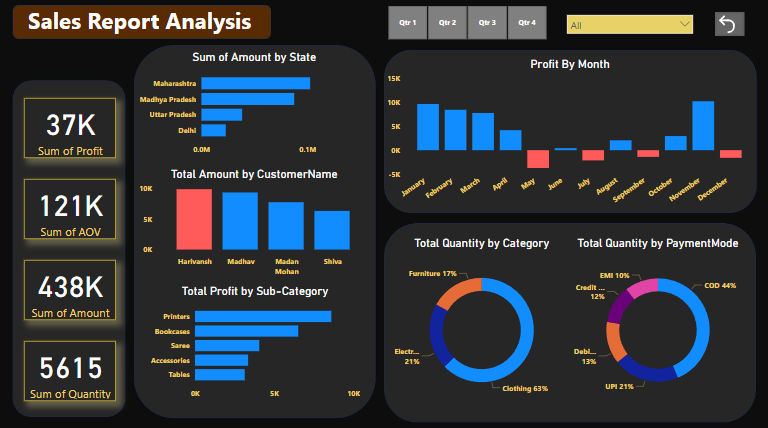

Layout of this report page (visuals, bound fields, positions):
{"tool":"powerbi","page":{"name":"Sales_Report","canvas":[1280,720],"ordinal":0},"visuals":[{"type":"textbox","box":[10,4.3,445.7,62.9],"z":0},{"type":"columnChart","title":"Profit By Month","fields":{"Category":["Orders.Order Date.Variation.Date Hierarchy.Month"],"Y":["Sum(Details.Profit)"]},"box":[640,96.9,620,263.1],"z":1000},{"type":"barChart","title":"Total Profit by Sub-Category","fields":{"Category":["Details.Sub-Category"],"Y":["Sum(Details.Profit)"]},"box":[244.3,474.3,360,200],"z":2000},{"type":"donutChart","title":"Total Quantity by Category","fields":{"Category":["Details.Category"],"Y":["Sum(Details.Quantity)"]},"box":[654.3,395.7,295.7,291.4],"z":3000},{"type":"donutChart","title":"Total Quantity by PaymentMode","fields":{"Y":["Sum(Details.Quantity)"],"Category":["Details.PaymentMode"]},"box":[951.4,395.7,290,291.4],"z":4000},{"type":"card","fields":{"Values":["Sum(Details.Amount)"]},"box":[40,434.3,152.9,100],"z":5000},{"type":"card","fields":{"Values":["Sum(Details.Quantity)"]},"box":[40,570,152.9,100],"z":6000},{"type":"card","fields":{"Values":["Sum(Details.Profit)"]},"box":[40,165.7,152.9,100],"z":7000},{"type":"card","fields":{"Values":["Sum(Details.AOV)"]},"box":[40,300,152.9,100],"z":8000},{"type":"barChart","fields":{"Category":["Orders.State"],"Y":["Sum(Details.Amount)"]},"box":[227.1,85.7,394.3,184.3],"z":9000},{"type":"columnChart","title":"Total Amount by CustomerName","fields":{"Category":["Orders.CustomerName"],"Y":["Sum(Details.Amount)"]},"box":[227.1,280,394.3,188.6],"z":10000},{"type":"slicer","fields":{"Values":["Orders.Order Date.Variation.Date Hierarchy.Quarter"]},"box":[621.4,4.3,312.9,68.6],"z":11000},{"type":"slicer","fields":{"Values":["Orders.State"]},"box":[934.3,17.1,230,50],"z":12000},{"type":"actionButton","box":[1191.4,21.4,48.6,40],"z":13000}]}

Visuals, with their boxes in screenshot pixels (x1, y1, x2, y2), scaled from the page's 1280x720 canvas onto the 768x428 screenshot:
textbox: box(6, 3, 273, 40)
"Profit By Month" columnChart: box(384, 58, 756, 214)
"Total Profit by Sub-Category" barChart: box(147, 282, 363, 401)
"Total Quantity by Category" donutChart: box(393, 235, 570, 408)
"Total Quantity by PaymentMode" donutChart: box(571, 235, 745, 408)
card - Sum(Details.Amount): box(24, 258, 116, 318)
card - Sum(Details.Quantity): box(24, 339, 116, 398)
card - Sum(Details.Profit): box(24, 98, 116, 158)
card - Sum(Details.AOV): box(24, 178, 116, 238)
barChart - Orders.State x Sum(Details.Amount): box(136, 51, 373, 160)
"Total Amount by CustomerName" columnChart: box(136, 166, 373, 279)
slicer - Orders.Order Date.Variation.Date Hierarchy.Quarter: box(373, 3, 561, 43)
slicer - Orders.State: box(561, 10, 699, 40)
actionButton: box(715, 13, 744, 36)
